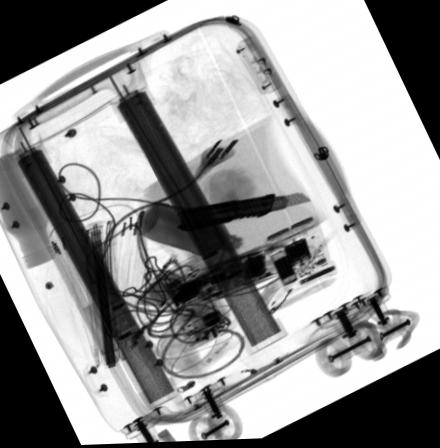Knife: (177, 194, 312, 234)
